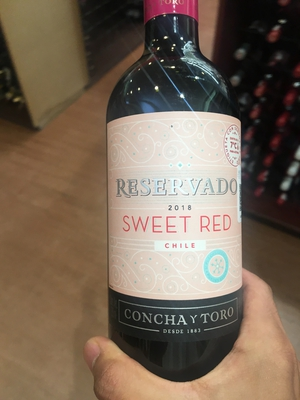reservado sweet red: (104, 23, 255, 398)
